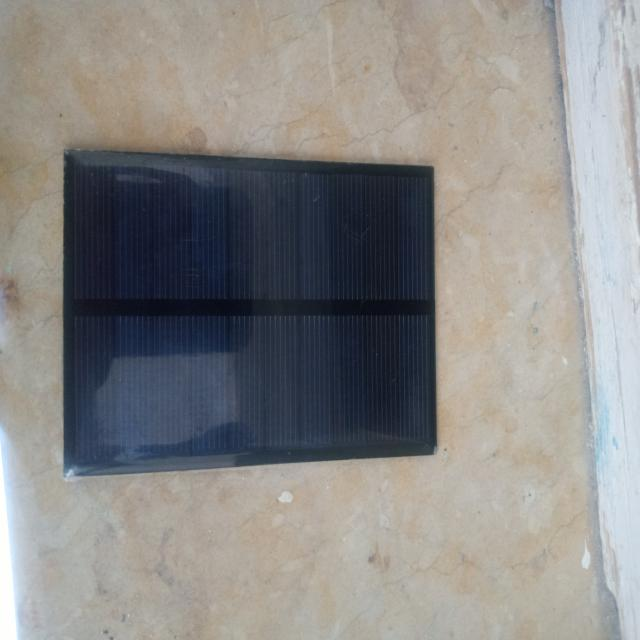no faulty: (57, 162, 454, 480)
